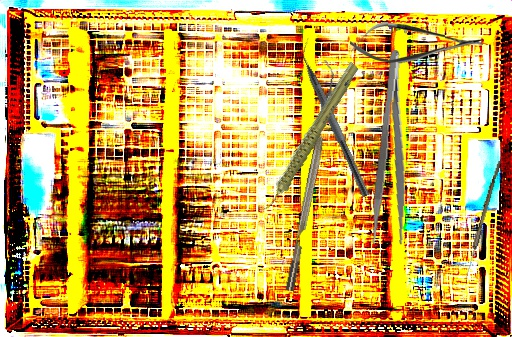Chopper: (273, 59, 343, 292), (291, 37, 381, 198)
Dressing Forceps: (369, 49, 420, 247)
Handpiece: (231, 60, 386, 214)
Micro Scissor: (349, 20, 484, 67)
Surgical Spoon: (463, 159, 502, 281)
